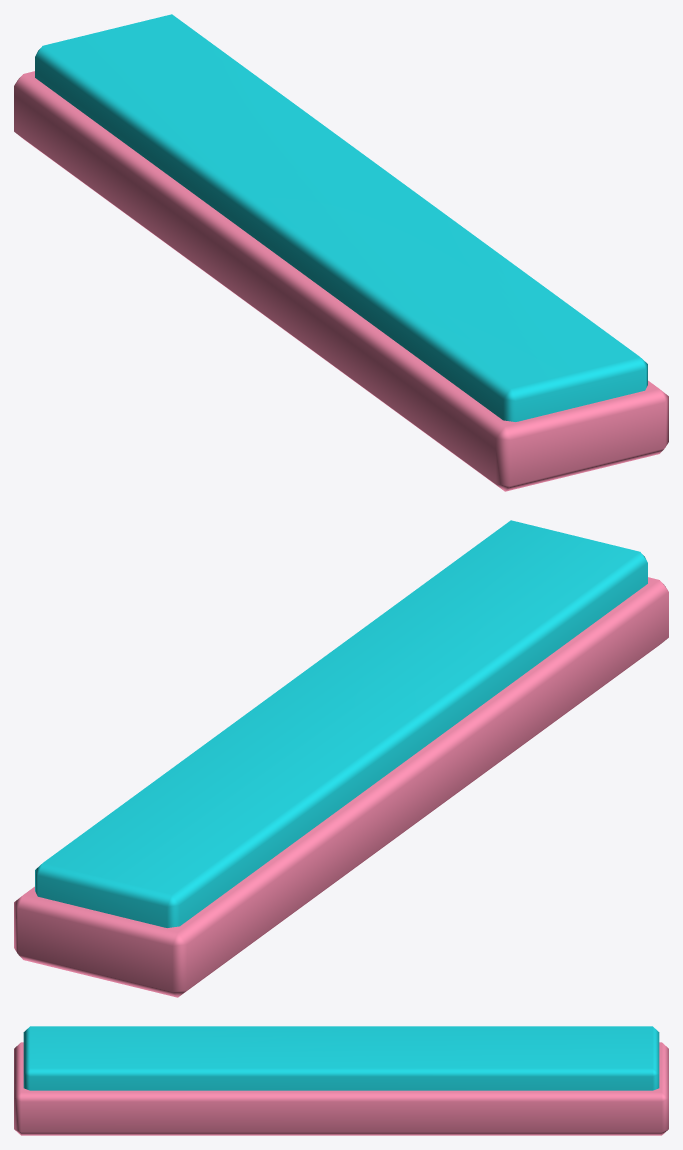
Rendered from Store_8_Candy_Stand_2.glb.
3 views of the same model, one above another, from view 1: azimuth 30°, elevation 25°; view 2: azimuth 150°, elevation 25°; view 3: azimuth 270°, elevation 25° (orthographic). The views are drawn at different scales.
Parts seen in each view (by area): view 1: Store_8_Candy_Stand_2; view 2: Store_8_Candy_Stand_2; view 3: Store_8_Candy_Stand_2.
Part boxes in pixels (box(x1,y1,x2,y2)): Store_8_Candy_Stand_2: box(14, 14, 668, 491); Store_8_Candy_Stand_2: box(14, 520, 668, 997); Store_8_Candy_Stand_2: box(14, 1026, 668, 1135).
Bounding box in the file's own units: 0.929 × 0.4882 × 4.58.
Materials: 1 (1 with a texture image).
